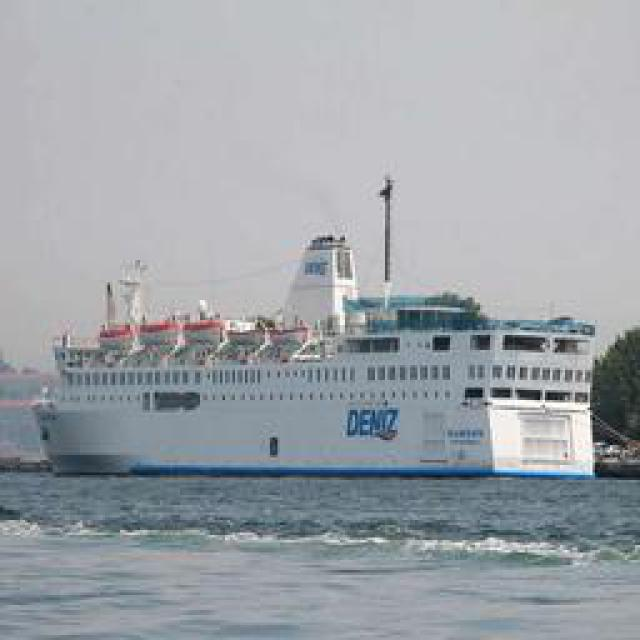Ship: (44, 230, 627, 483)
